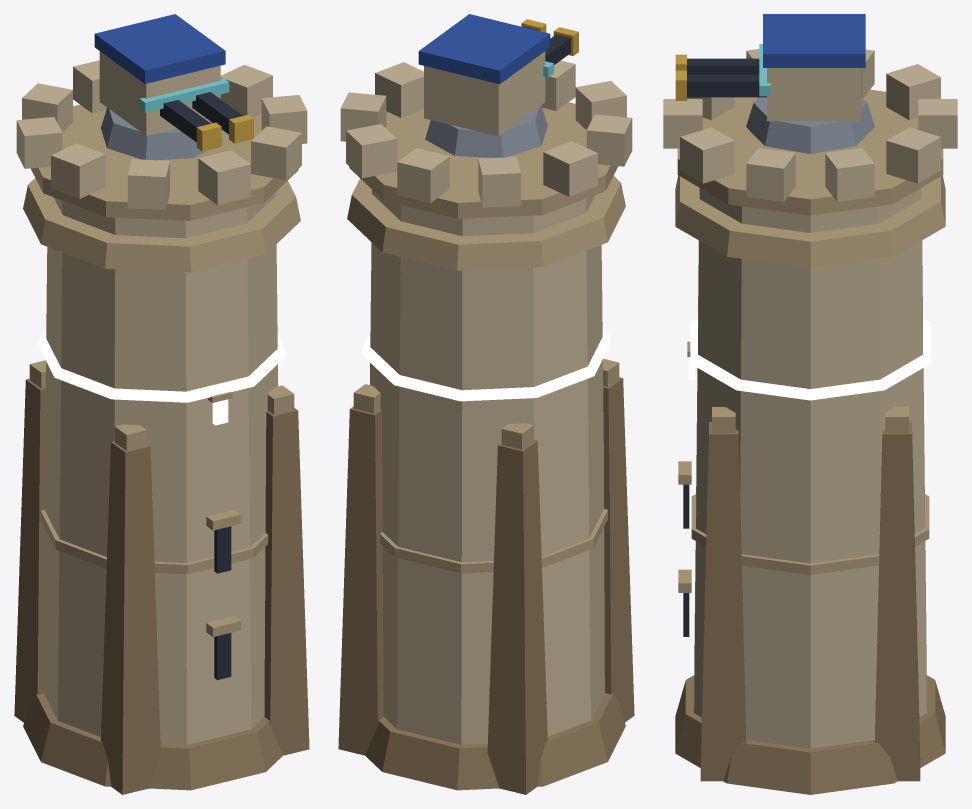
The model's file is tower_t4.glb.
3 views of the same model, side by side, from view 1: azimuth 30°, elevation 25°; view 2: azimuth 150°, elevation 25°; view 3: azimuth 270°, elevation 25° (orthographic).
Parts seen in each view (by area): view 1: body, part_turret, glow; view 2: body, part_turret, glow; view 3: body, part_turret, glow.
Boxes of the visible parts, x1,y1,x2,y2 form: body: (14,60,309,794); part_turret: (94,14,253,160); glow: (38,331,285,425); body: (338,60,634,794); part_turret: (418,14,578,157); glow: (362,329,610,401); body: (663,49,957,794); part_turret: (675,14,874,153); glow: (688,318,930,400).
Bounding box in the file's own units: 1.95 × 5.18 × 1.97.
